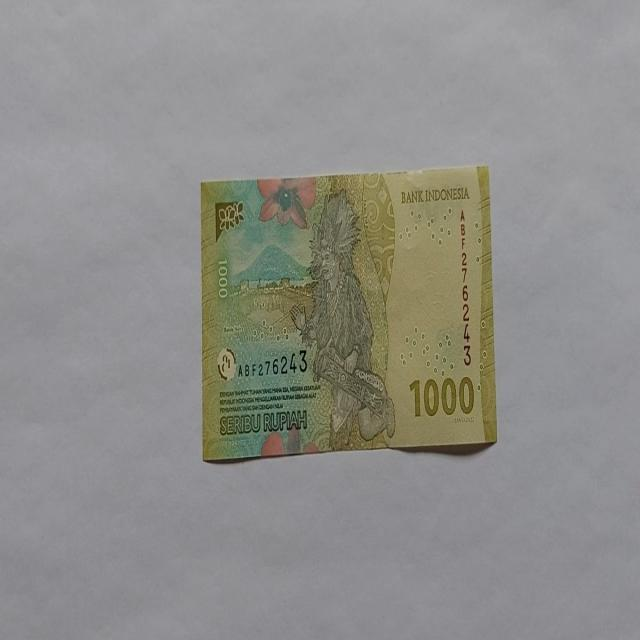seribu rupiah kertas: (199, 165, 497, 462)
